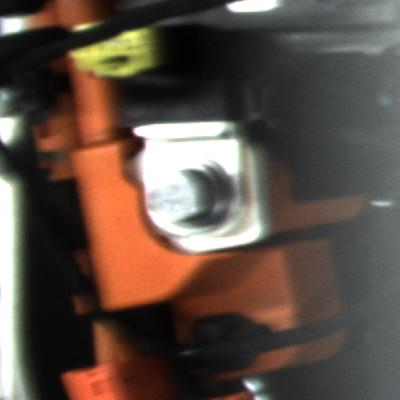nut_b: (142, 158, 241, 239)
